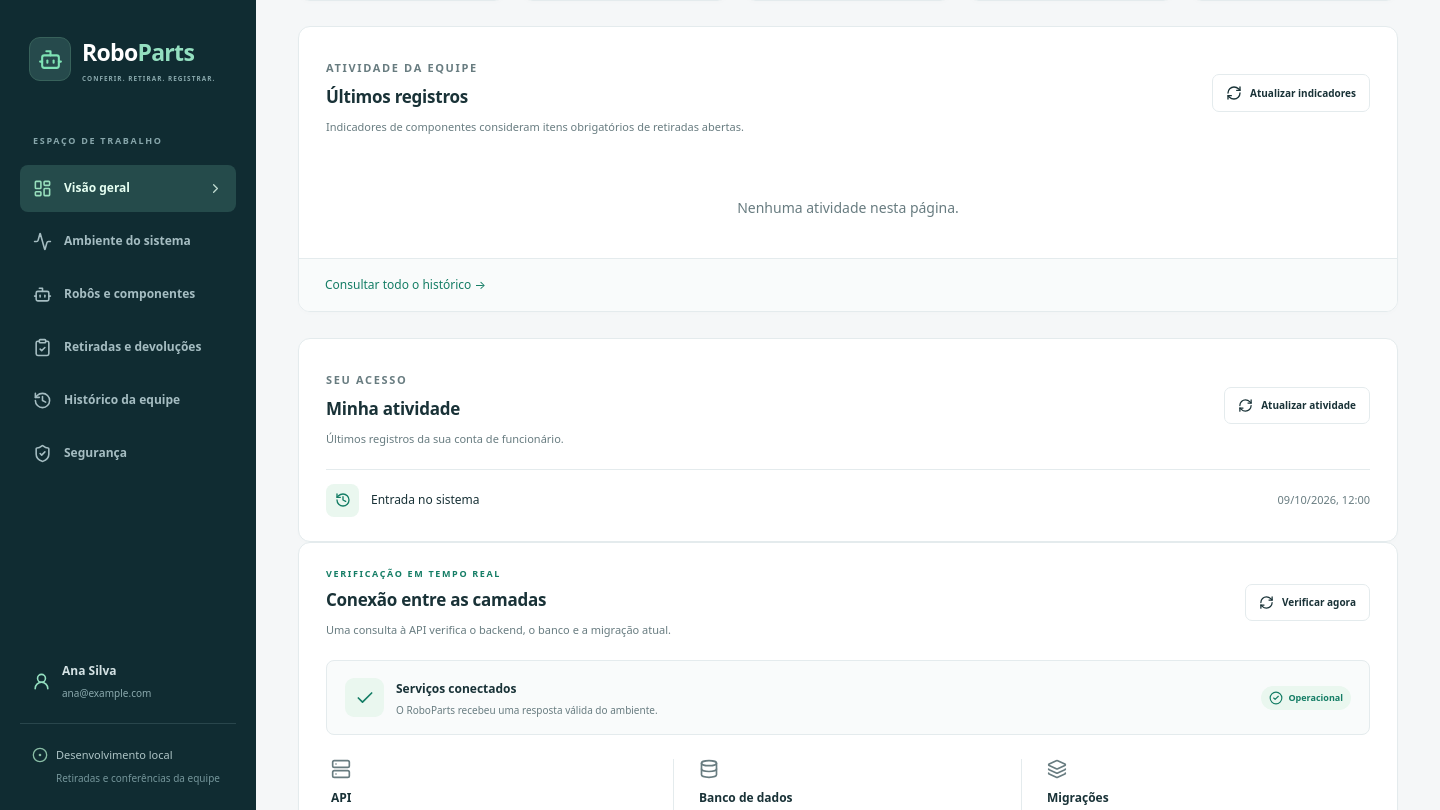
Scenario: Sessão e navegação privada › remove identidade e dados privados quando uma API responde 401
(page scrolled)
Check: the text "Entrada no sistema" is shown, box [371,491,480,509]
What coordinates should you click on to do the following:
click the button "Atualizar atividade"
I would click on:
 (1297, 405)
Its box is [1224,387,1370,424].
(page scrolled)
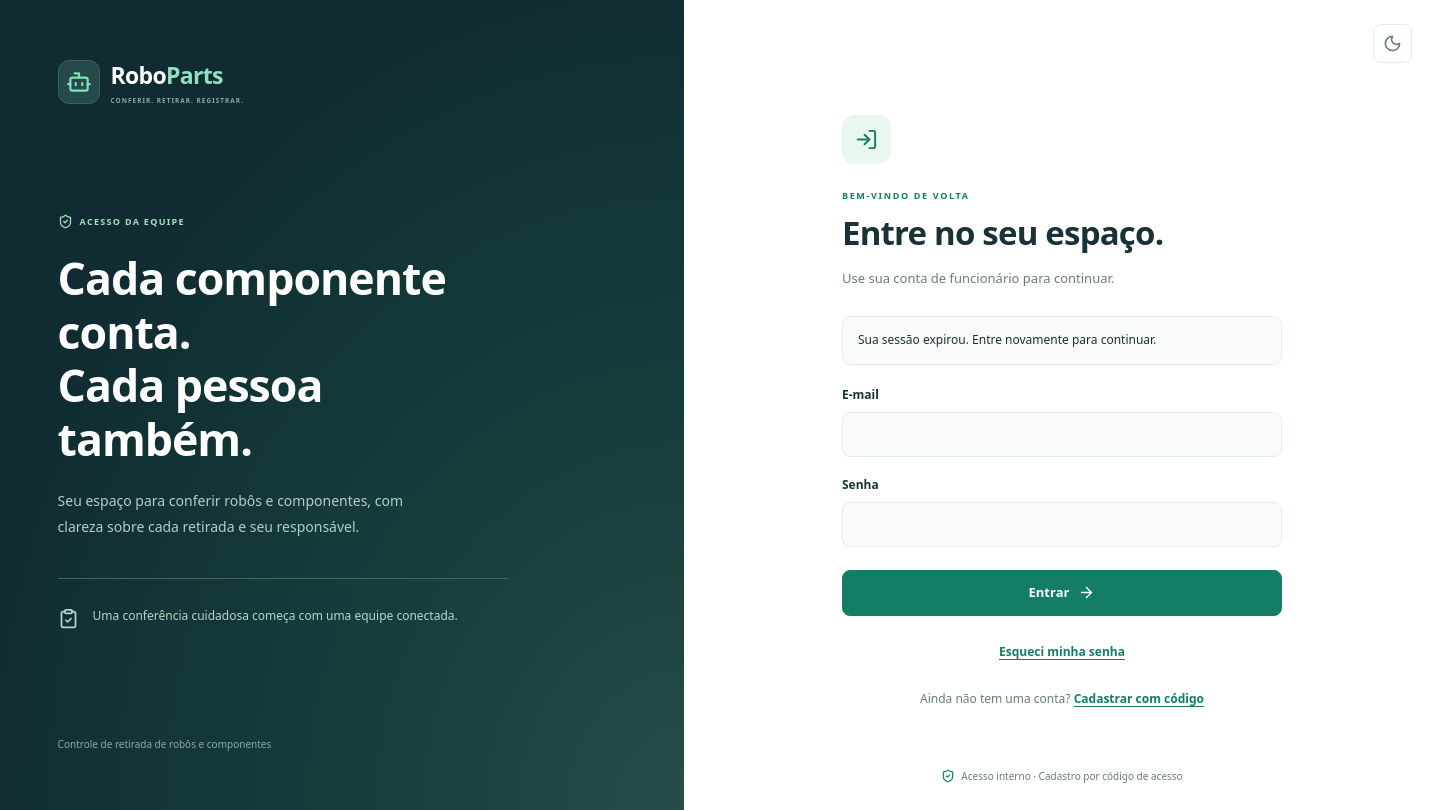
Check: the heading "Entre no seu espaço." is shown, box [842,210,1163,255]
Check: the text "Sua sessão expirou. Entre novamente para continuar." is shown, box [858,330,1156,351]
Check: the text "Entrada no sistema" is gone
